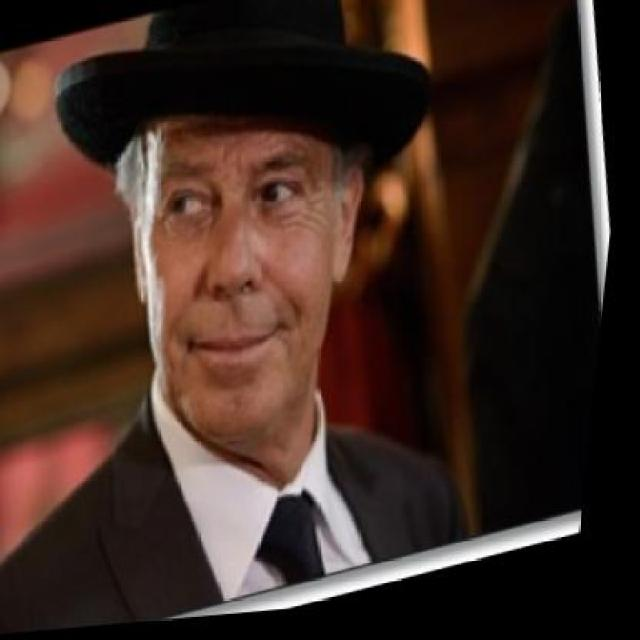hat: (29, 0, 463, 277)
